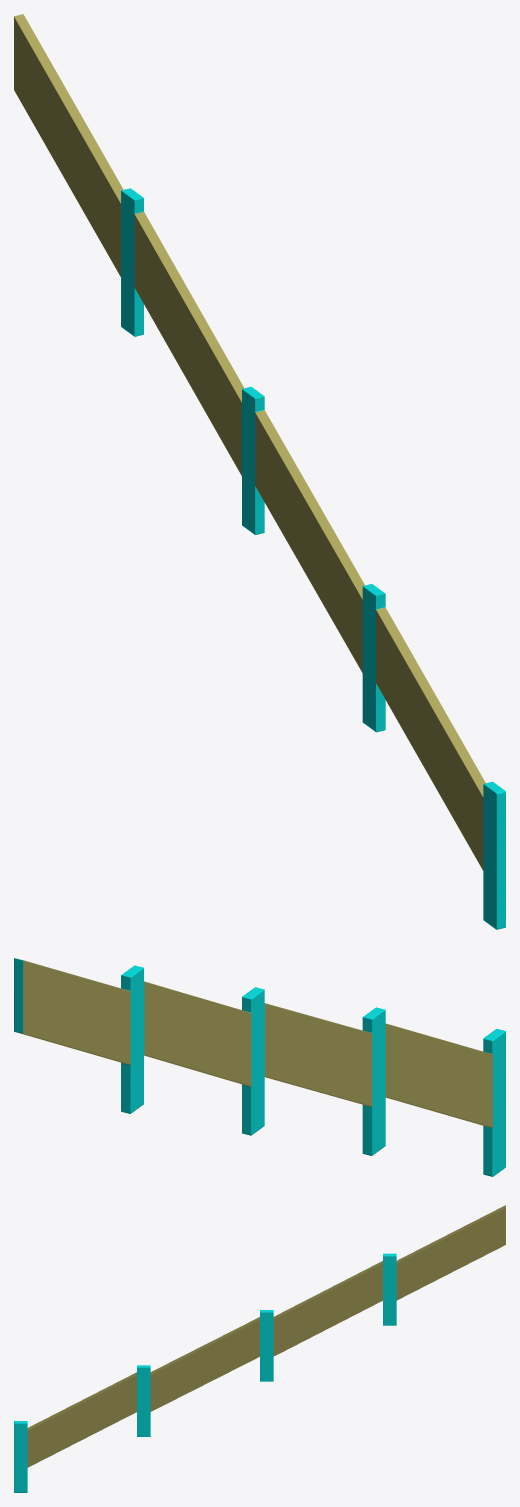
The model's file is StairHandle_High.fbx.
3 views of the same model, one above another, from view 1: azimuth 30°, elevation 25°; view 2: azimuth 150°, elevation 25°; view 3: azimuth 270°, elevation 25° (orthographic). The views are drawn at different scales.
Parts seen in each view (by area): view 1: StairHandle_High; view 2: StairHandle_High; view 3: StairHandle_High.
Boxes of the visible parts, x1,y1,x2,y2 form: StairHandle_High: (14,14,505,929); StairHandle_High: (14,958,505,1176); StairHandle_High: (14,1205,505,1492).
Size of the model in its own units: 0.1854 by 10.25 by 16.
